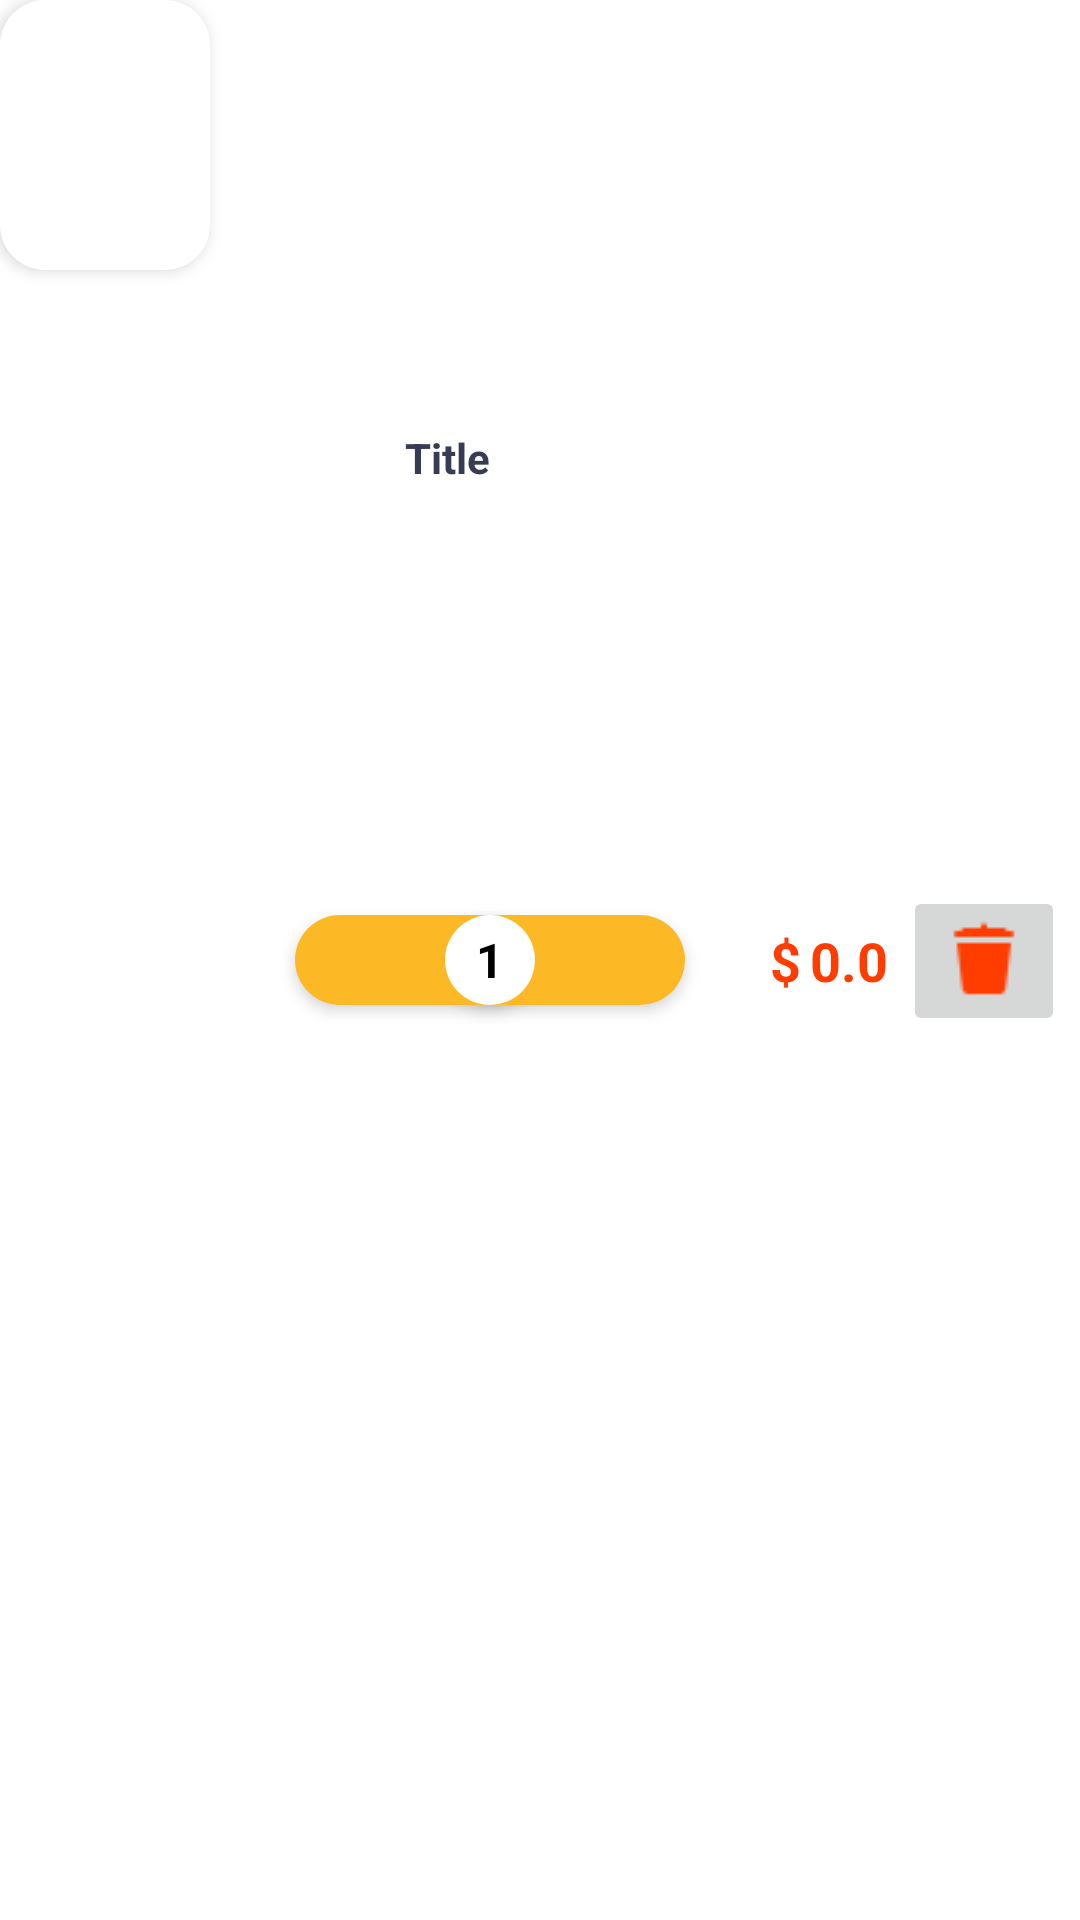

Screen size 1080x1920. Icon name, then its box in pixels as [left=x1, top=y1, right=x2, bottom=y2]:
delete: [left=915, top=904, right=1053, bottom=1018]
